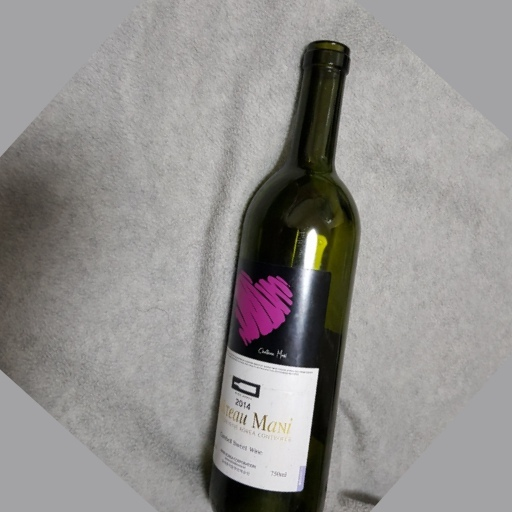Glass_2: (200, 38, 365, 512)
